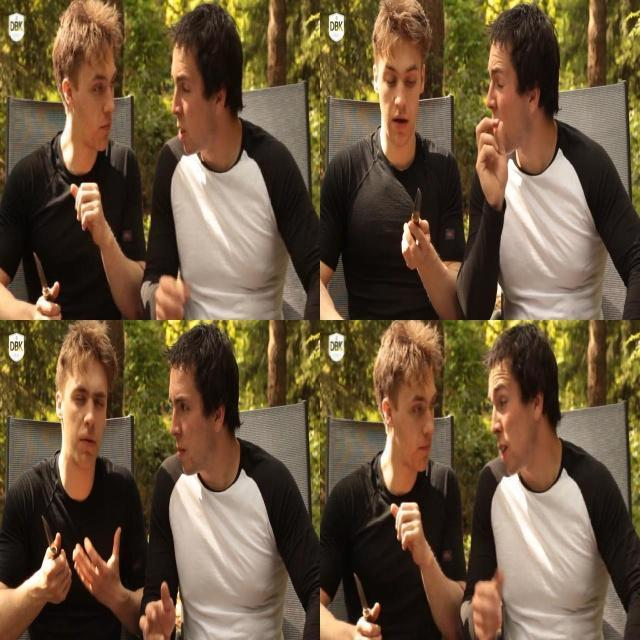-: (349, 560, 384, 639), (37, 506, 71, 580), (397, 177, 428, 256), (28, 245, 61, 319)
